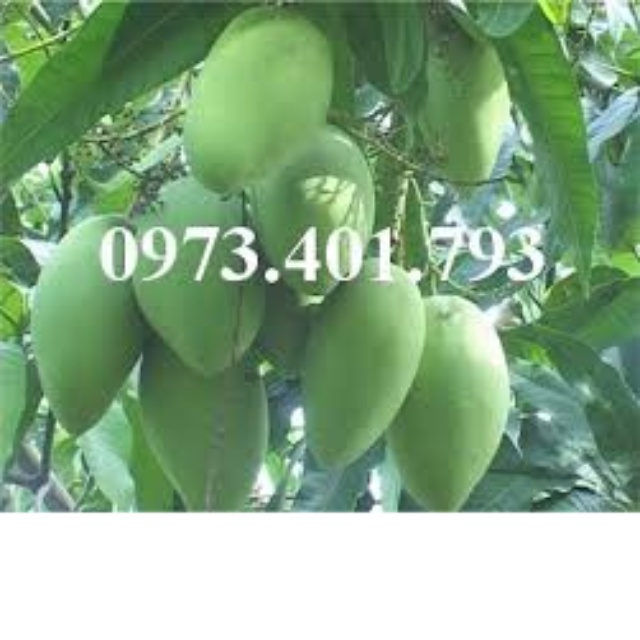thanh_long: (175, 5, 336, 201), (31, 206, 136, 437), (309, 267, 425, 459)
